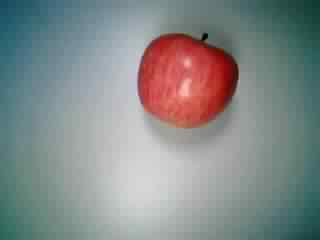apple: (136, 25, 242, 129)
